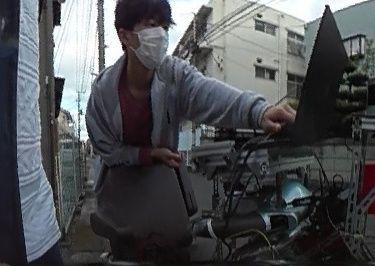person: (87, 0, 293, 174)
